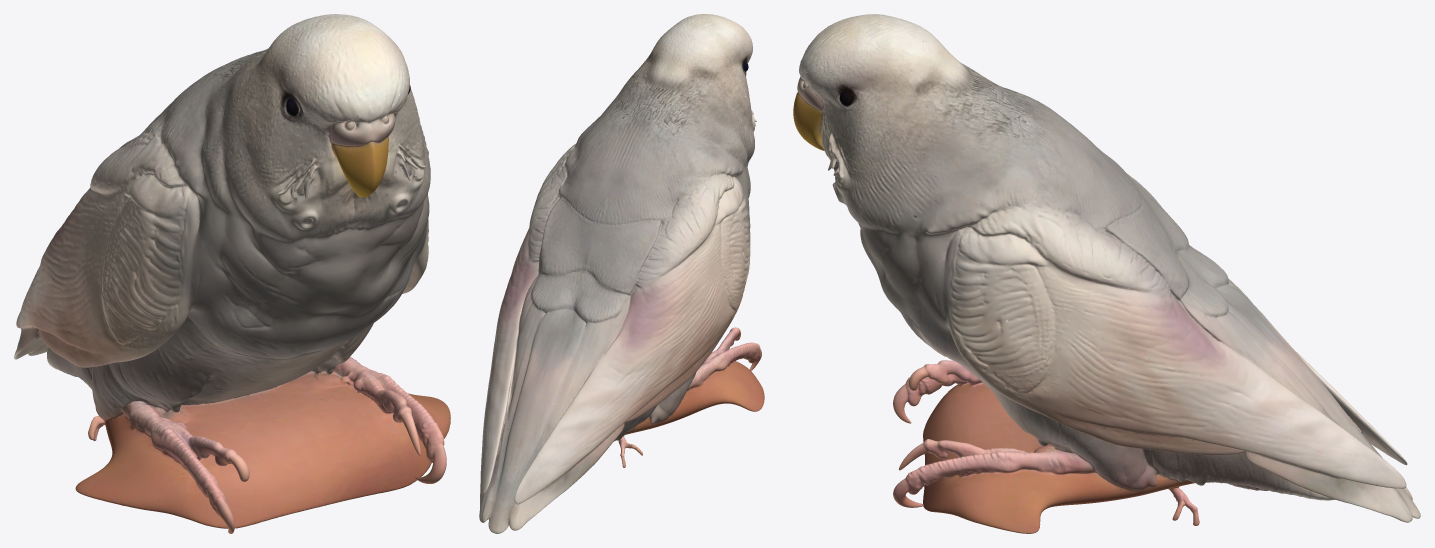
The model's file is coco.compressed.glb.
3 views of the same model, side by side, from view 1: azimuth 30°, elevation 25°; view 2: azimuth 150°, elevation 25°; view 3: azimuth 270°, elevation 25° (orthographic). The views are drawn at different scales.
Bounding box in the file's own units: 1.12 × 1.64 × 1.9.
1 material, 1 textured.
